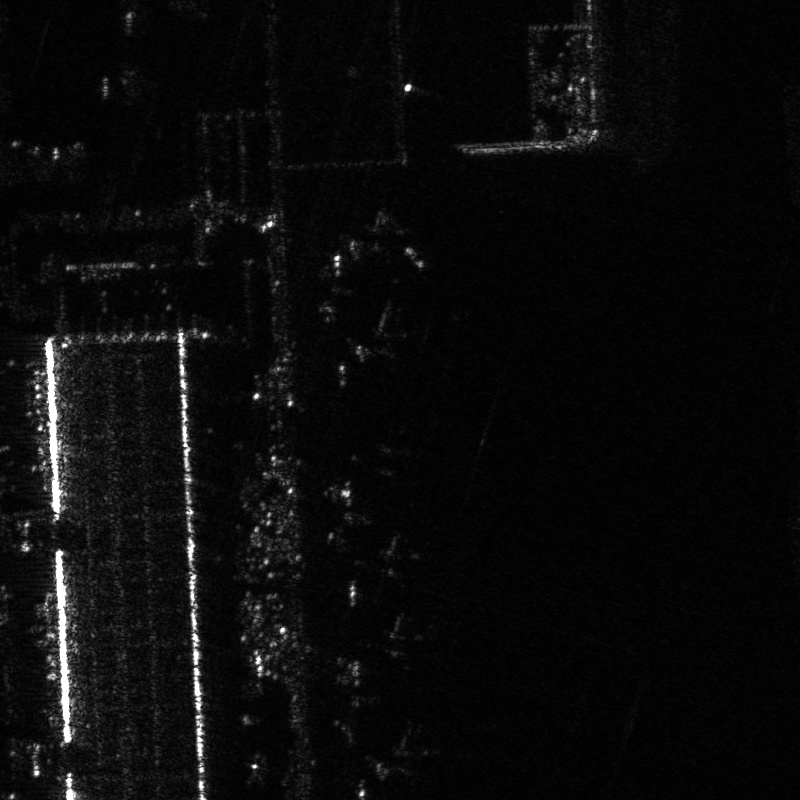A220: (364, 725, 444, 784)
A320/321: (335, 301, 438, 379), (350, 532, 433, 585), (373, 611, 431, 665)
